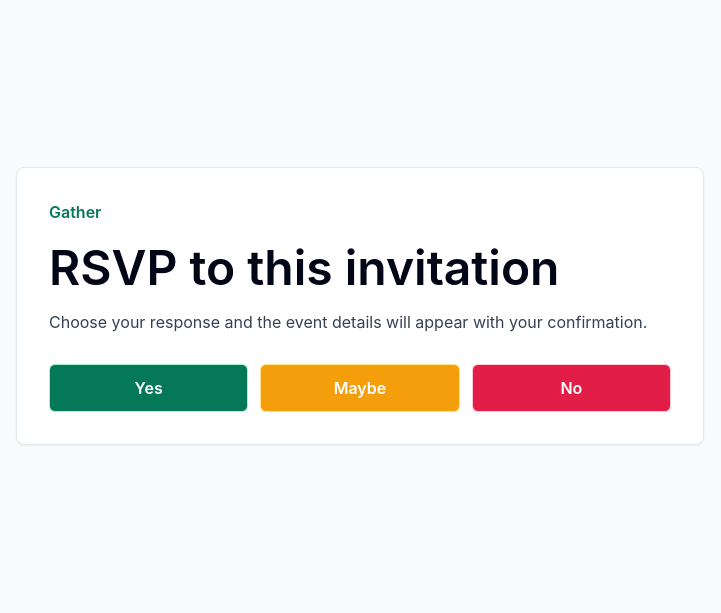
Test: InvitationRsvpPage › saves a one-tap RSVP and renders the confirmation details
The width and height of the screenshot is (721, 613).
Click the button "Maybe": [360, 388] box 260,364 -> 460,412
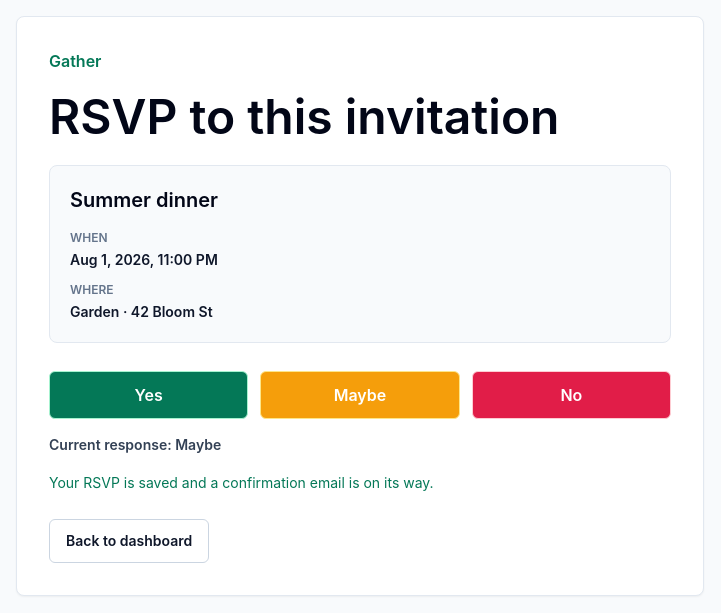
expect the text "Your RSVP is saved and a confirmation email is on its way." is shown: met, box 49,474 -> 434,491
expect the text "Current response: Maybe" is shown: met, box 49,436 -> 221,453
expect the text "Summer dinner" is shown: met, box 70,188 -> 218,212
